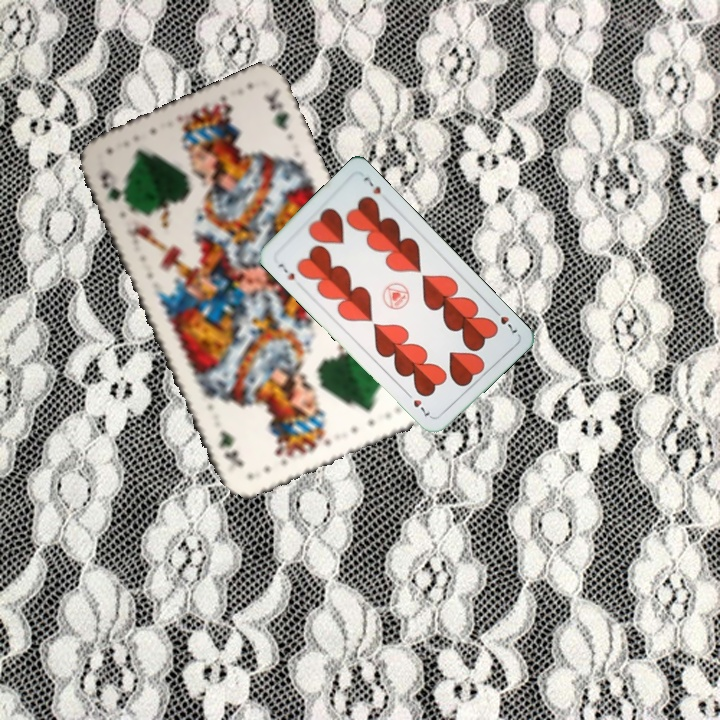GK: (96, 165, 132, 212)
H7: (489, 304, 520, 336), (274, 259, 297, 283)
